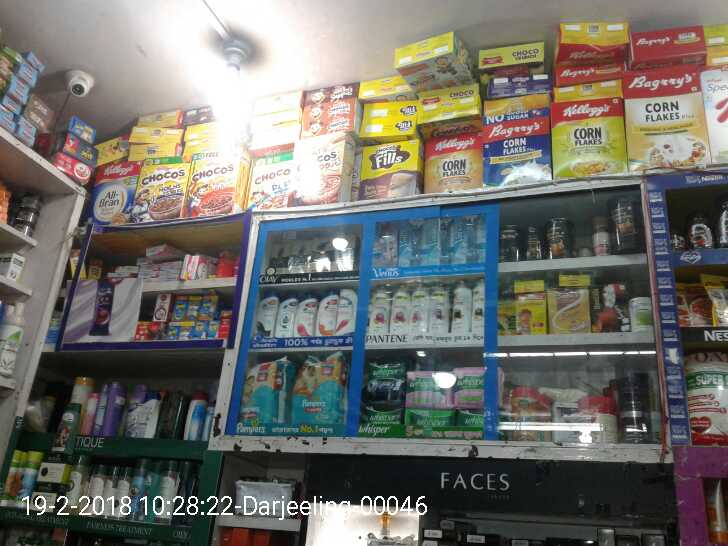venus: (369, 216, 404, 272), (404, 216, 441, 264), (461, 210, 484, 263), (441, 209, 460, 264)
